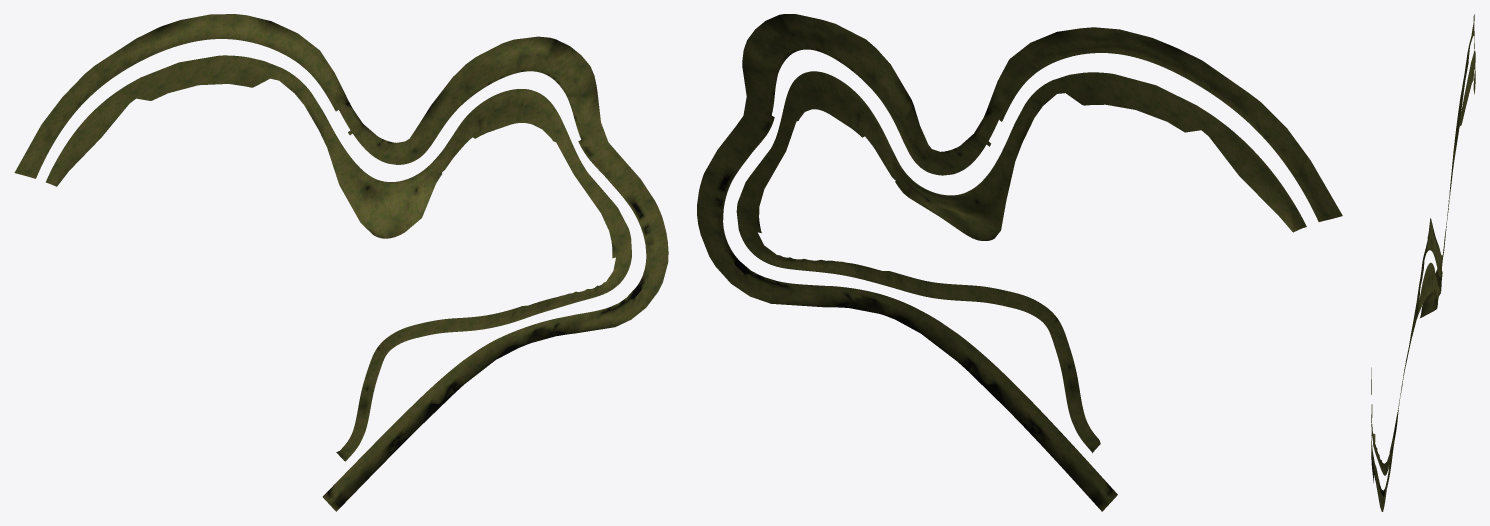
Rendered from trava_blizu.glb.
3 renders of one model, left to right at view 1: azimuth 30°, elevation 25°; view 2: azimuth 150°, elevation 25°; view 3: azimuth 270°, elevation 25°, orthographic. The views are drawn at different scales.
Parts seen in each view (by area): view 1: Background_Tree_Atlas.024_Grass_Close_0; view 2: Background_Tree_Atlas.024_Grass_Close_0; view 3: Background_Tree_Atlas.024_Grass_Close_0.
Boxes of the visible parts, x1,y1,x2,y2 form: Background_Tree_Atlas.024_Grass_Close_0: (14,14,668,511); Background_Tree_Atlas.024_Grass_Close_0: (697,14,1342,511); Background_Tree_Atlas.024_Grass_Close_0: (1371,14,1475,511).
Bounding box in the file's own units: 241 × 181 × 41.12.
1 material, 1 textured.
